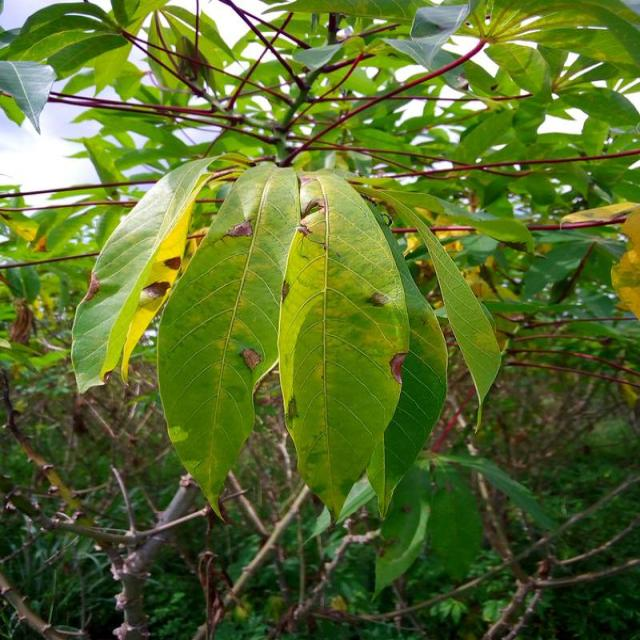cassava leaf: (154, 161, 301, 522), (277, 166, 411, 523), (69, 153, 232, 394), (363, 191, 448, 520)
